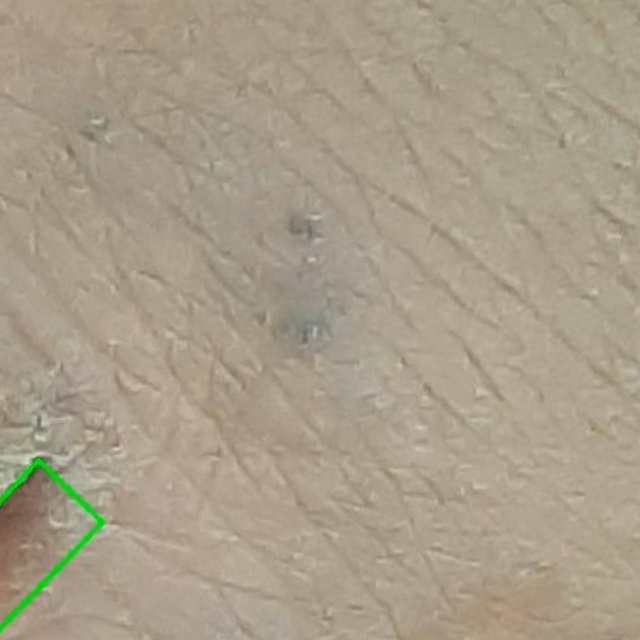Eczema: (0, 460, 110, 639)
